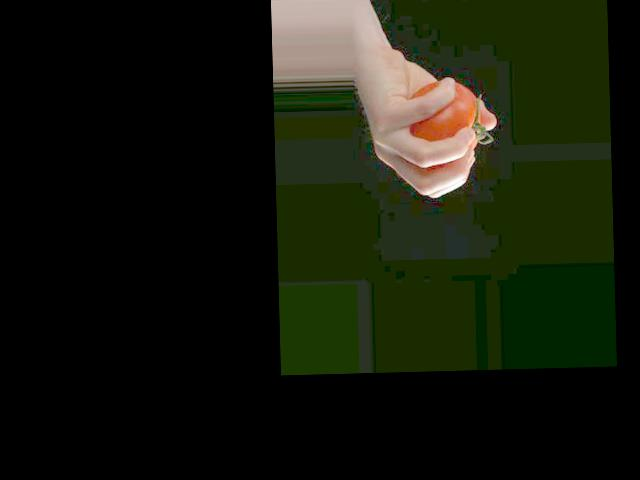tomato: (406, 79, 478, 151)
